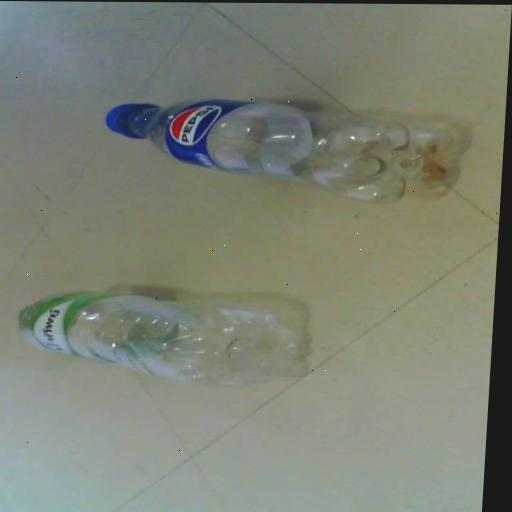bottle: (102, 97, 470, 204), (14, 288, 313, 390)
